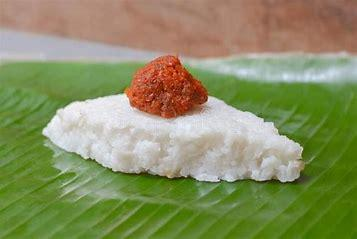Kiribath: (43, 45, 302, 198)
Lunu sambol: (123, 49, 217, 130)
